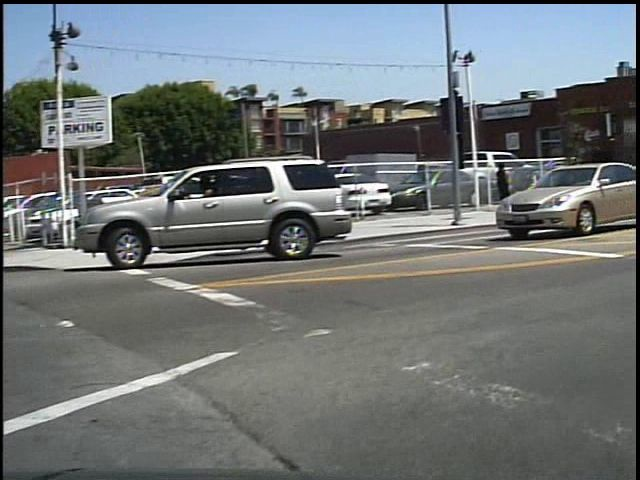person: (501, 159, 526, 216)
